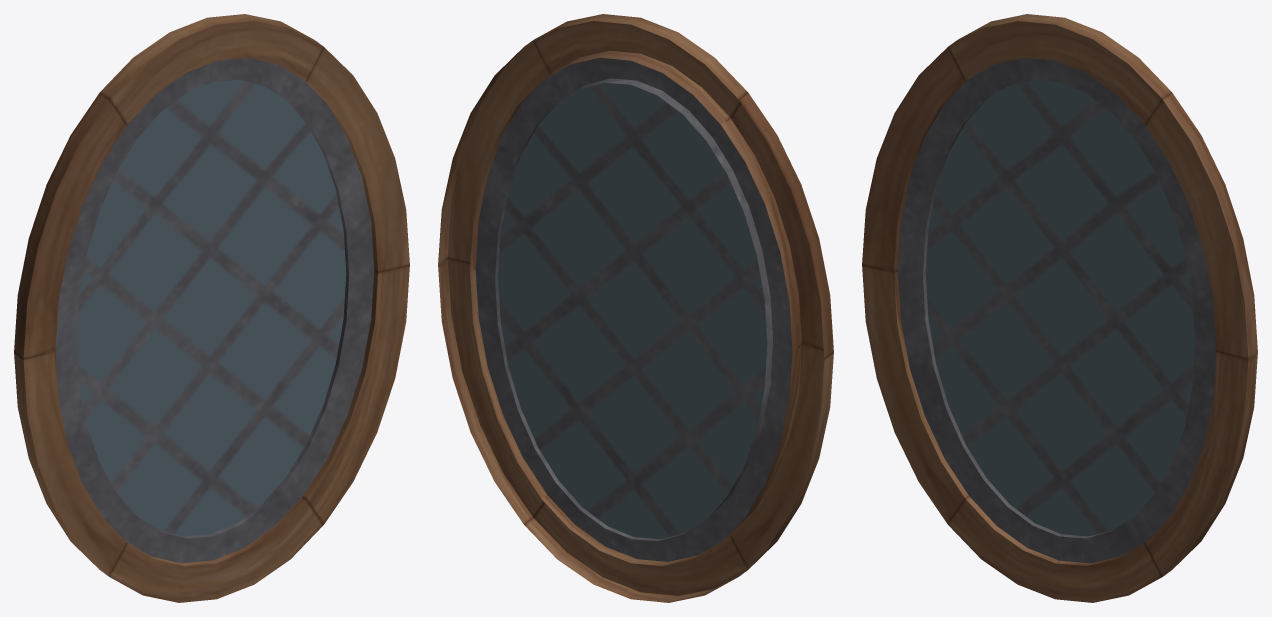
The model's file is sb_obj_outdoor028_window10.fbx.
3 renders of one model, left to right at view 1: azimuth 30°, elevation 25°; view 2: azimuth 150°, elevation 25°; view 3: azimuth 330°, elevation 25°, orthographic.
Parts seen in each view (by area): view 1: 10_low.006; view 2: 10_low.006; view 3: 10_low.006.
Boxes of the visible parts, left/top/right/bottom form: 10_low.006: left=14, top=14, right=409, bottom=602; 10_low.006: left=438, top=14, right=833, bottom=602; 10_low.006: left=862, top=14, right=1257, bottom=602.
Bounding box in the file's own units: 0.9946 × 1.41 × 0.0426.
